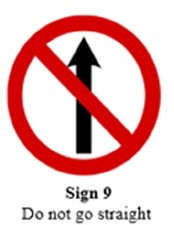Traffic signal: (8, 12, 163, 176)
